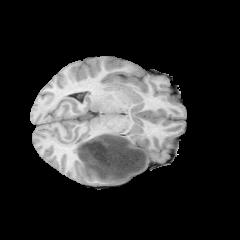glioma: (72, 133, 149, 184)
